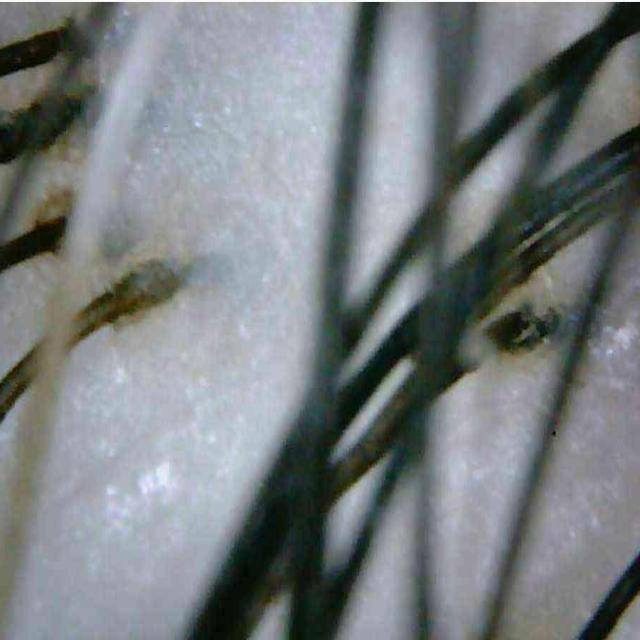ds: (105, 450, 180, 529), (582, 310, 640, 392)
